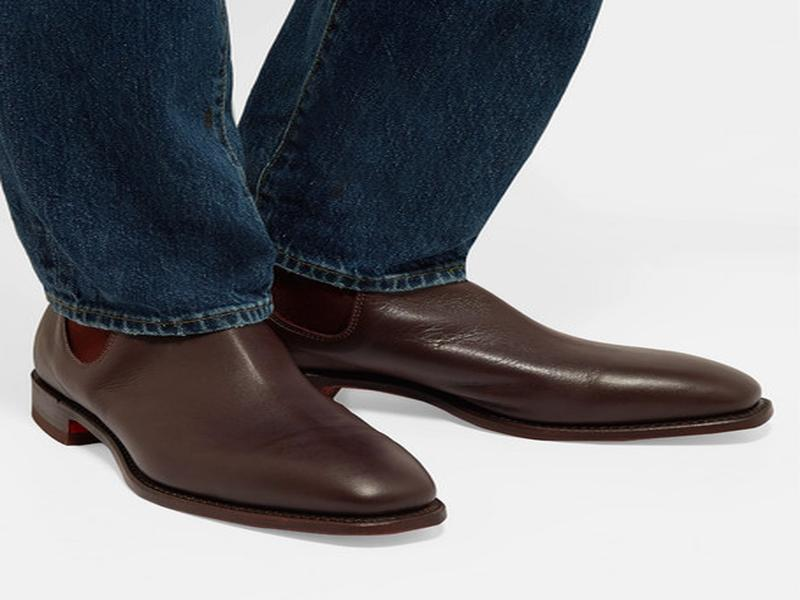shoes_men_chelsea_chelseaboots_leather_none_none_brown_none: (31, 292, 453, 540), (271, 261, 783, 459)
